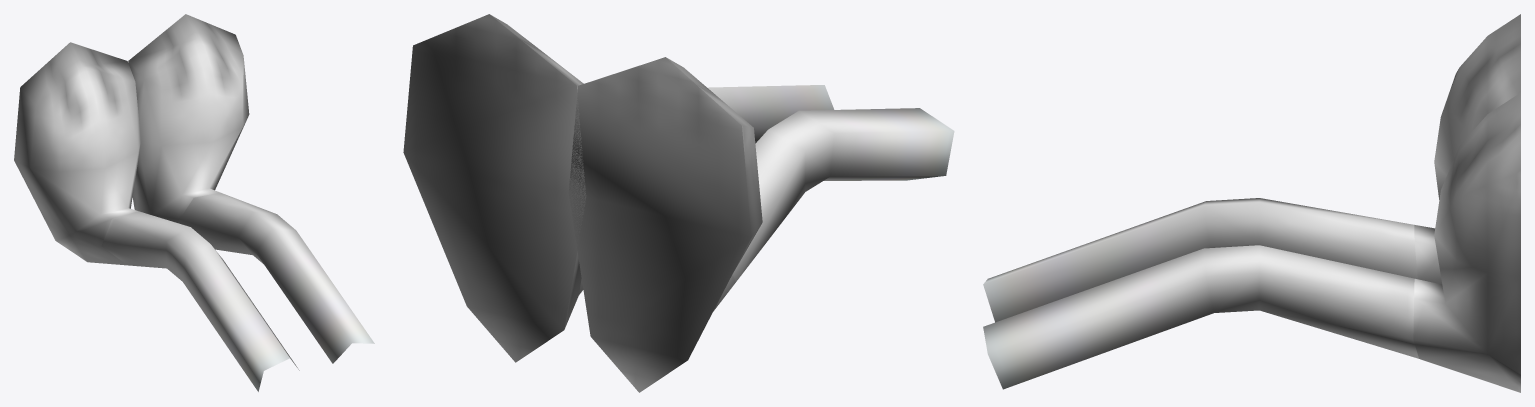
The model's file is legs_m.glb.
The picture shows the model from 3 angles, left to right: view 1: azimuth 30°, elevation 25°; view 2: azimuth 150°, elevation 25°; view 3: azimuth 270°, elevation 25°; orthographic projection. The views are drawn at different scales.
Visible parts, largest first — view 1: feet, legs; view 2: feet, legs; view 3: legs, feet.
Boxes of the visible parts, x1,y1,x2,y2 form: feet: (14, 14, 249, 265); legs: (101, 192, 374, 391); feet: (403, 14, 762, 392); legs: (707, 85, 954, 281); legs: (983, 198, 1418, 389); feet: (1413, 14, 1520, 392).
Size of the model in its own units: 1.29 by 1.21 by 1.89.
Materials: 2 (2 with a texture image).
